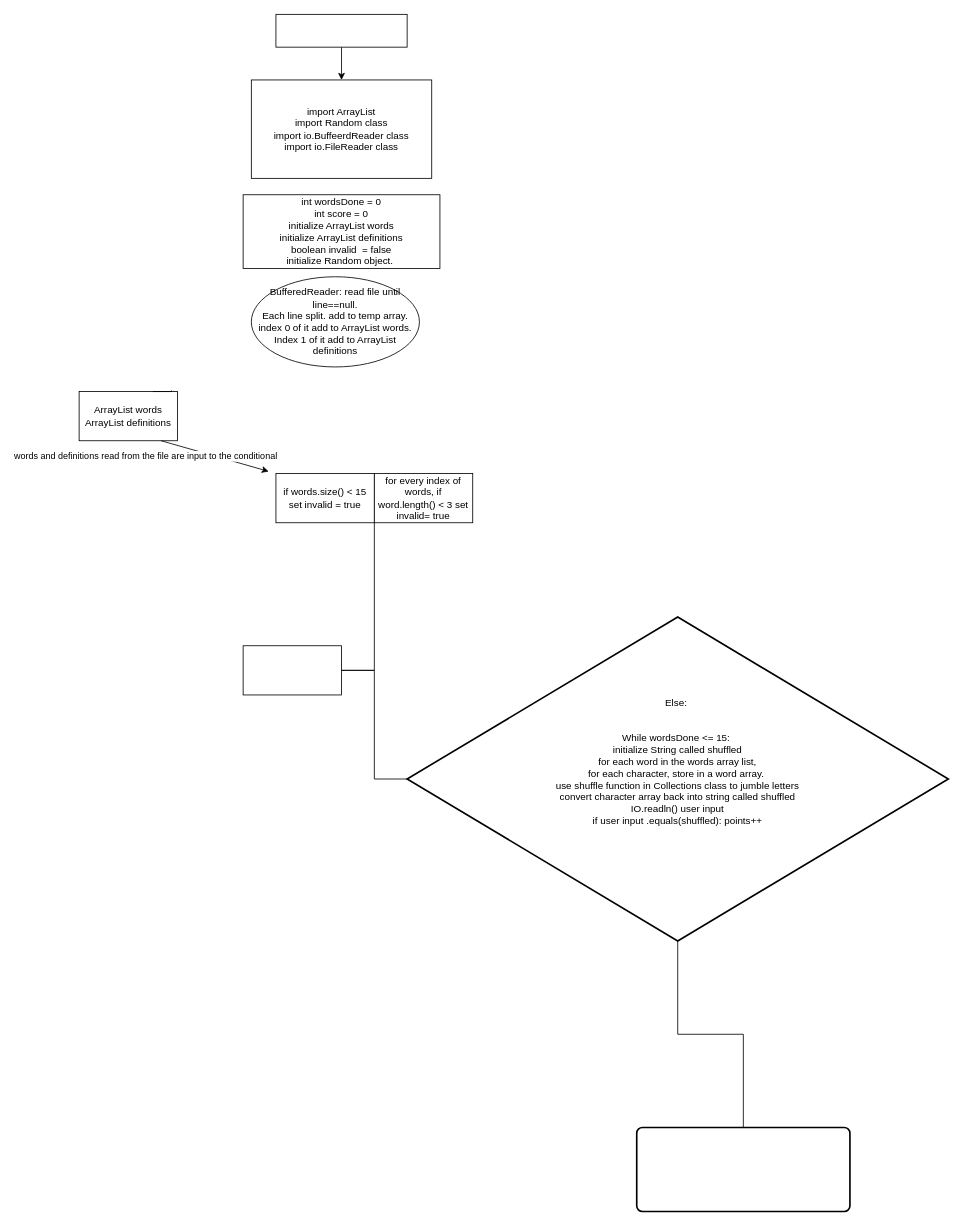
Some shapes in this 964 by 1227 pixel diagram are drawn without their labels. Here are the shapes that lost their labels. From the top down, the box of each, then its label:
(275, 14, 407, 47): Start
(242, 645, 342, 695): If invalid, print "Vocab list invalid" return
(636, 1126, 850, 1212): IO.println() : Game end "Points: " + points + " / " + words.size()
